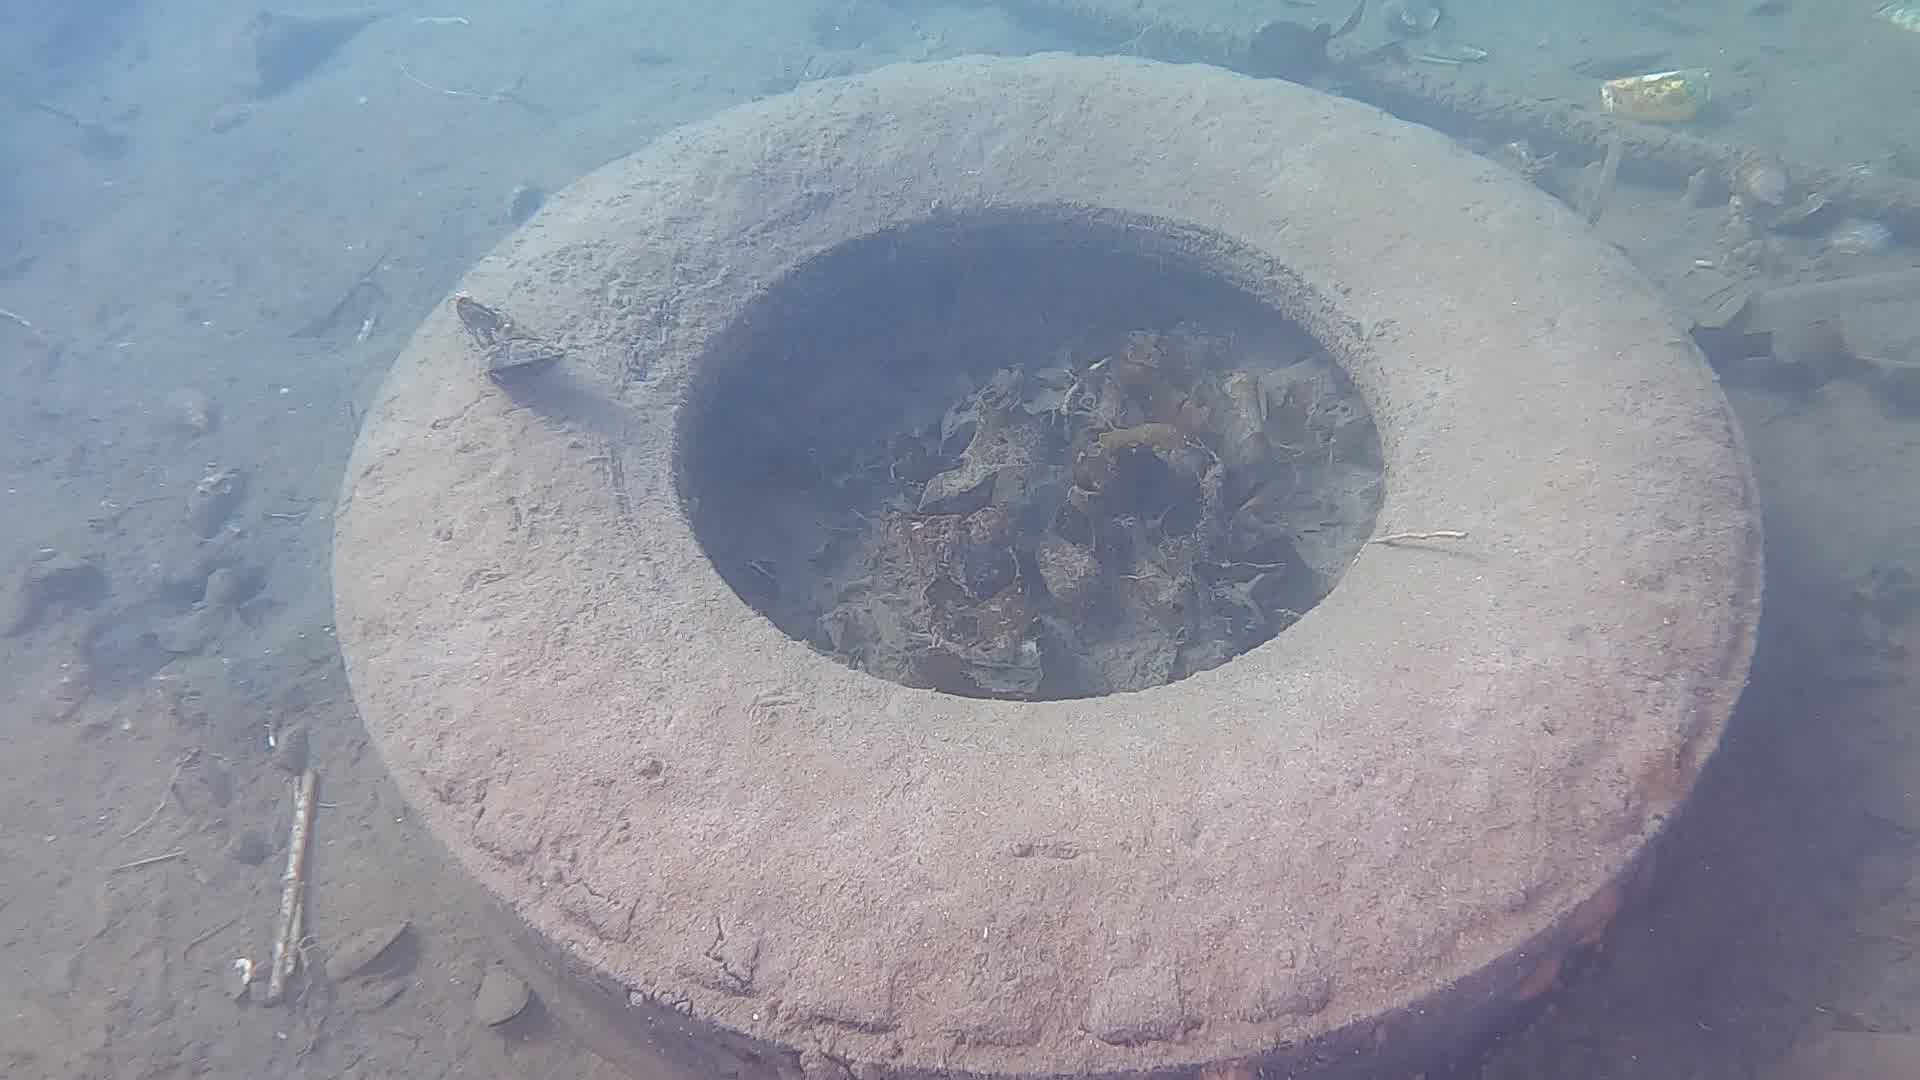tire: (324, 46, 1772, 1080)
